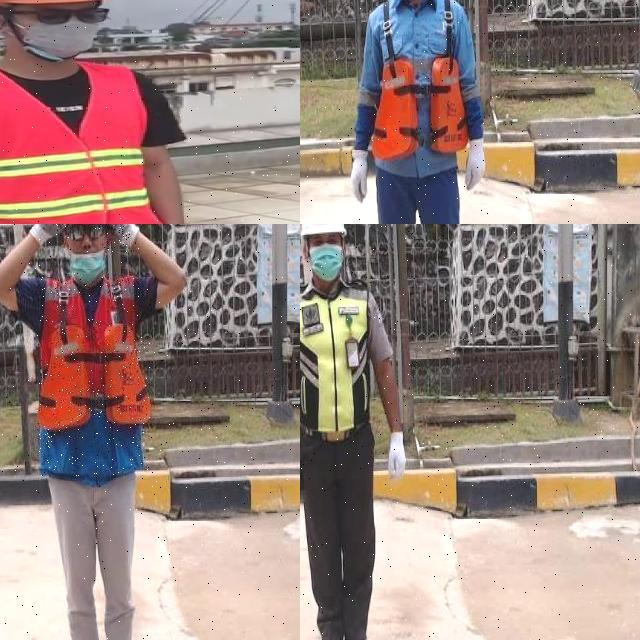boots: (345, 628, 377, 640)
helmet: (300, 224, 355, 242)
vest: (0, 62, 163, 224), (37, 273, 150, 476), (367, 0, 472, 163), (300, 279, 381, 436)
